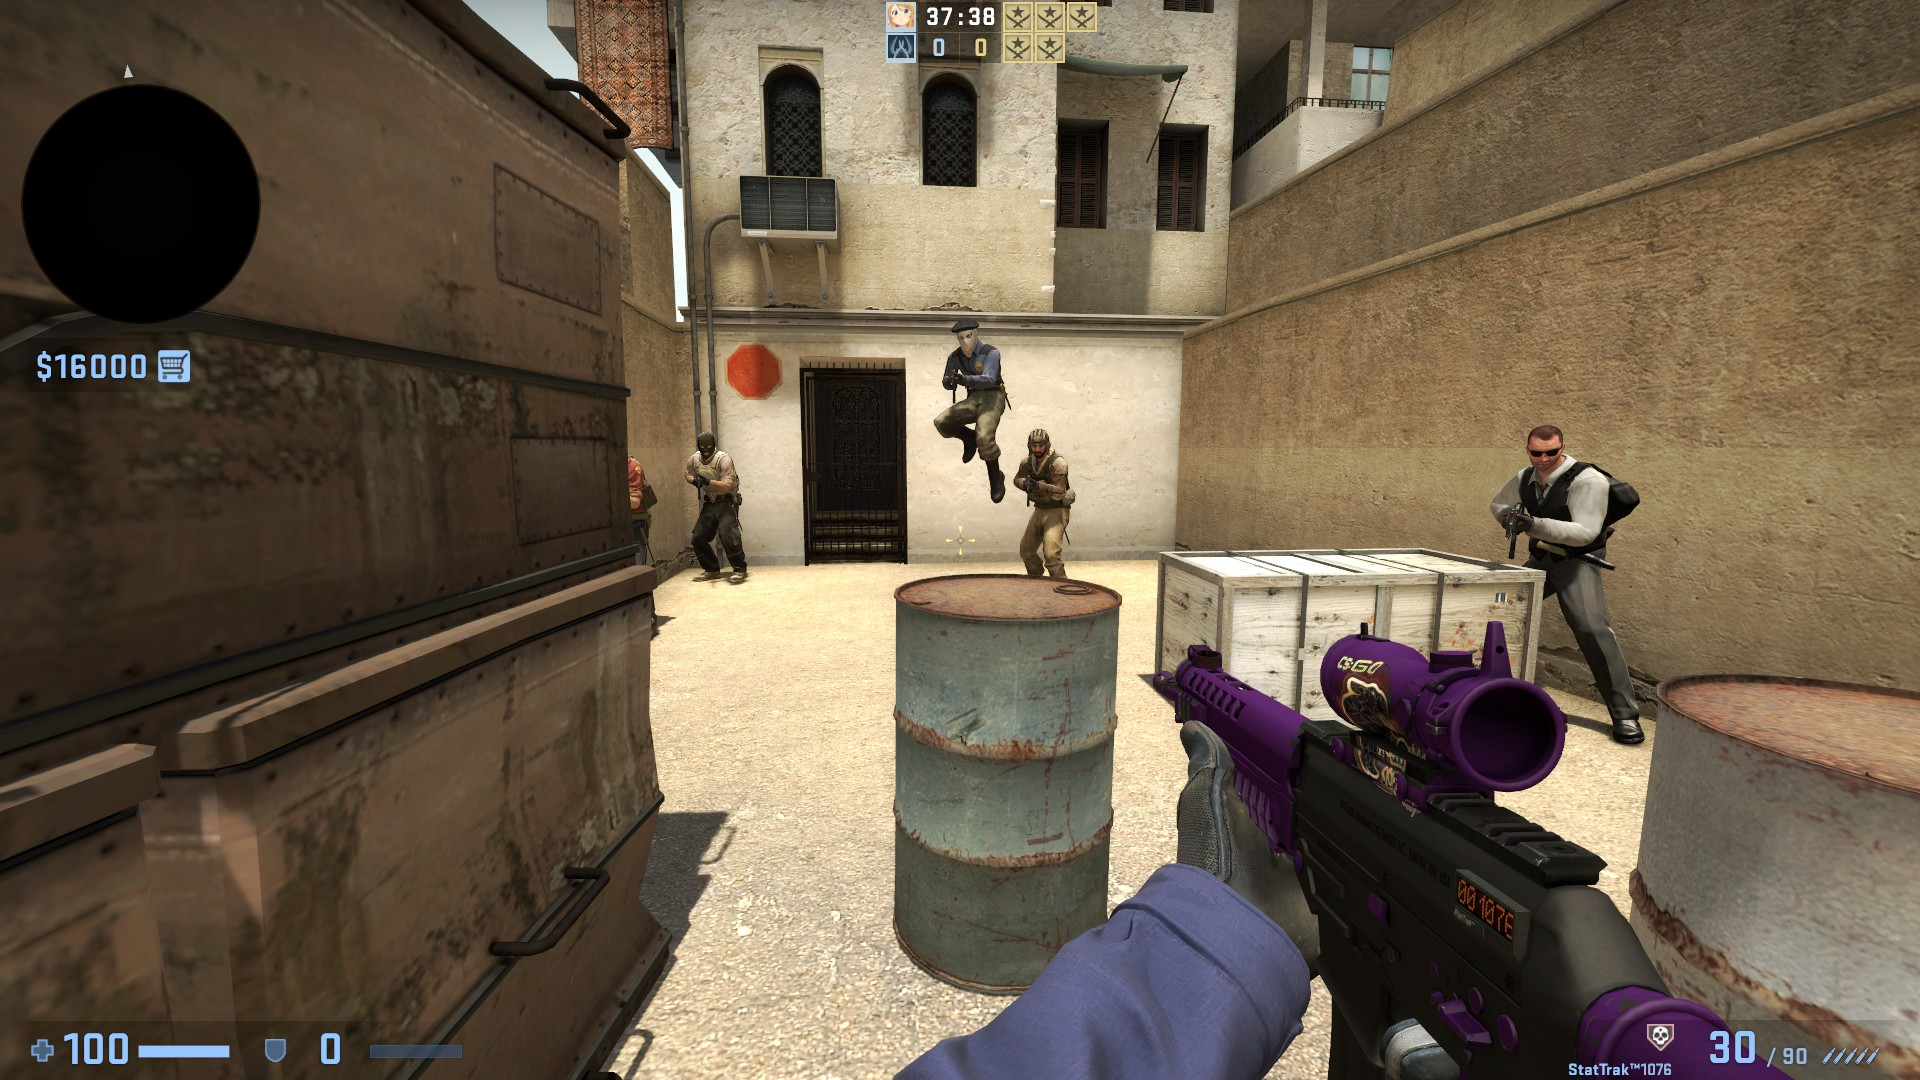head: (1523, 422, 1564, 474), (949, 315, 978, 352), (1023, 427, 1051, 458), (694, 429, 722, 459)
